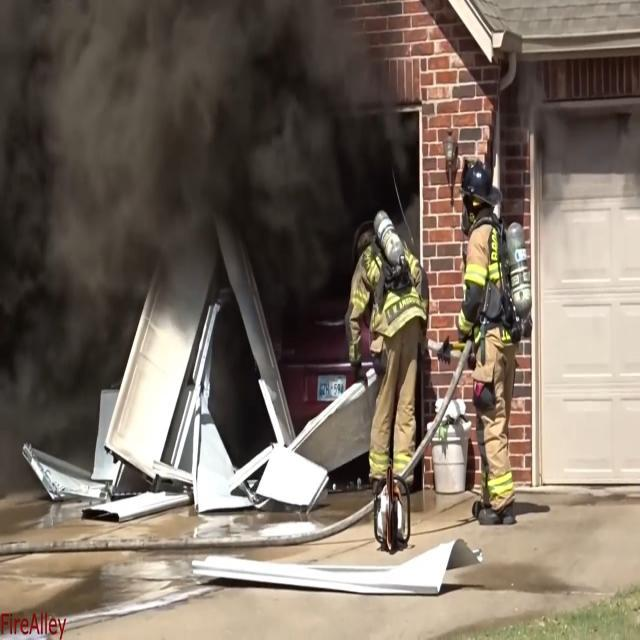Smoke: (38, 13, 382, 271)
